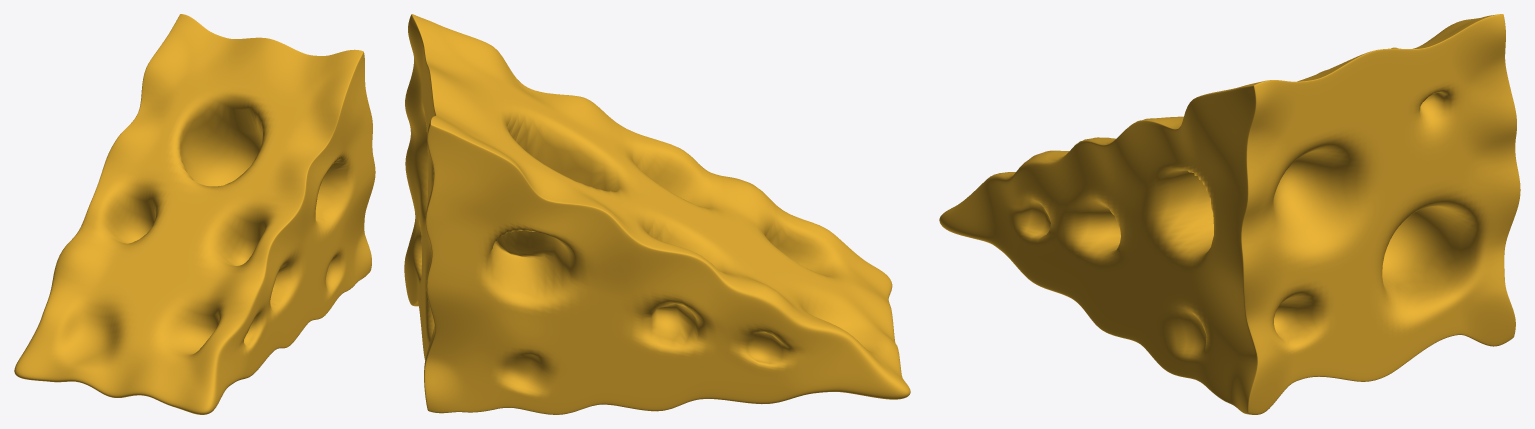
Rendered from cheese.glb.
3 views of the same model, side by side, from view 1: azimuth 30°, elevation 25°; view 2: azimuth 150°, elevation 25°; view 3: azimuth 270°, elevation 25° (orthographic). The views are drawn at different scales.
Visible parts, largest first — view 1: Cube.001; view 2: Cube.001; view 3: Cube.001.
Boxes of the visible parts, x1,y1,x2,y2 form: Cube.001: (14, 14, 375, 414); Cube.001: (404, 14, 910, 414); Cube.001: (939, 14, 1520, 414).
Size of the model in its own units: 3.7 by 2.14 by 3.35.
